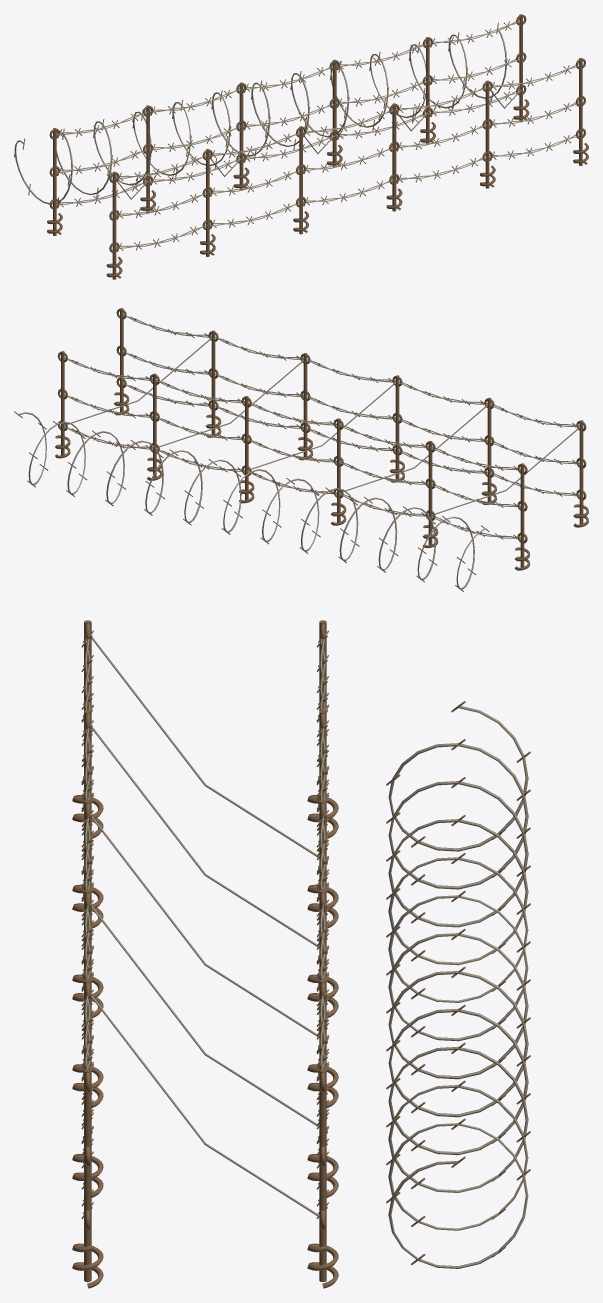
The model's file is screw_picket_wire_1916_web.glb.
The picture shows the model from 3 angles, top to bottom: view 1: azimuth 30°, elevation 25°; view 2: azimuth 150°, elevation 25°; view 3: azimuth 270°, elevation 25°; orthographic projection. The views are drawn at different scales.
Parts seen in each view (by area): view 1: Oxidised_Iron, Worn_Wire; view 2: Worn_Wire, Oxidised_Iron; view 3: Worn_Wire, Oxidised_Iron.
Boxes of the visible parts, x1,y1,x2,y2 form: Oxidised_Iron: [14, 14, 588, 279]; Worn_Wire: [14, 19, 579, 248]; Worn_Wire: [18, 314, 579, 589]; Oxidised_Iron: [14, 308, 588, 591]; Worn_Wire: [85, 633, 528, 1268]; Oxidised_Iron: [72, 620, 530, 1288].
Size of the model in its own units: 6.78 by 1.44 by 2.81.
